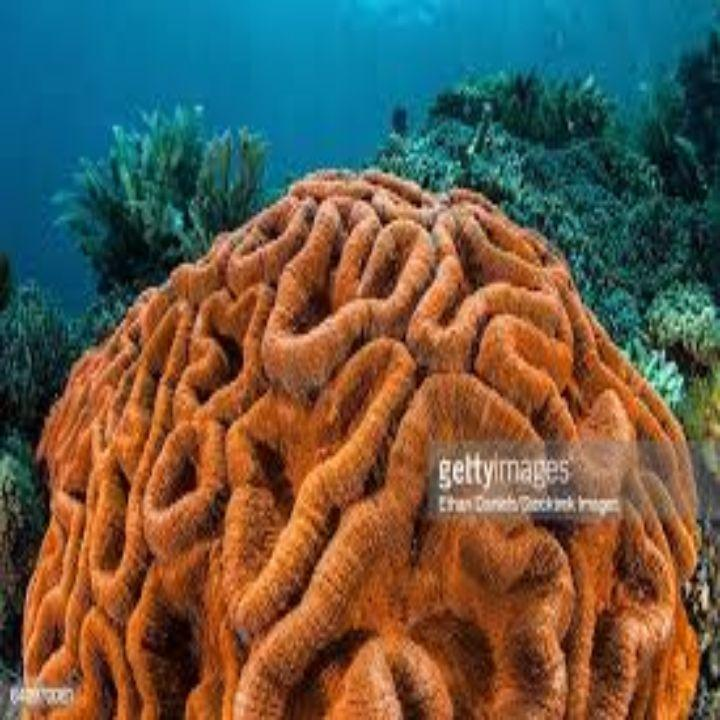Healthy Coral: (40, 190, 656, 698)
